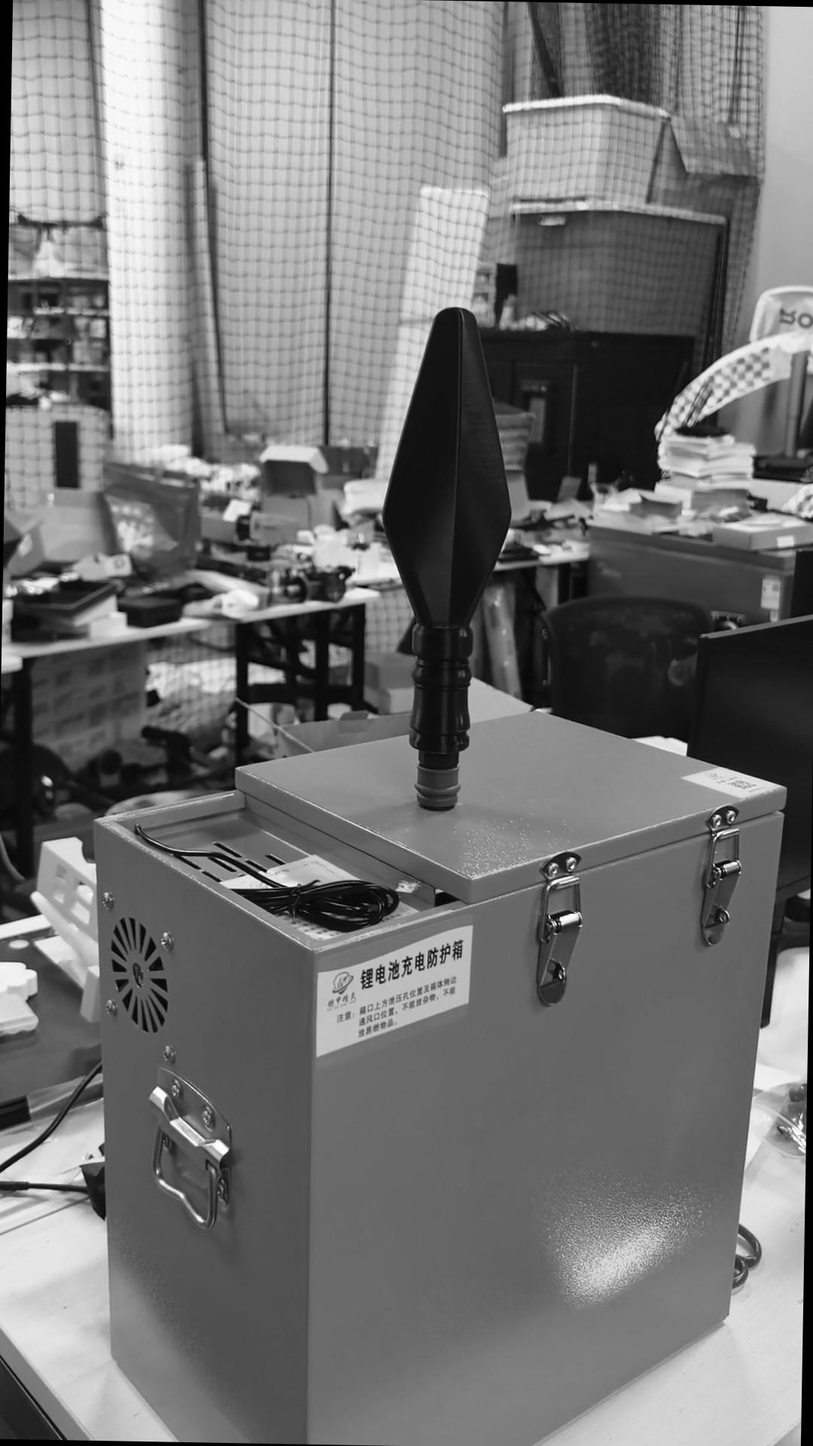base: (414, 761, 461, 811)
